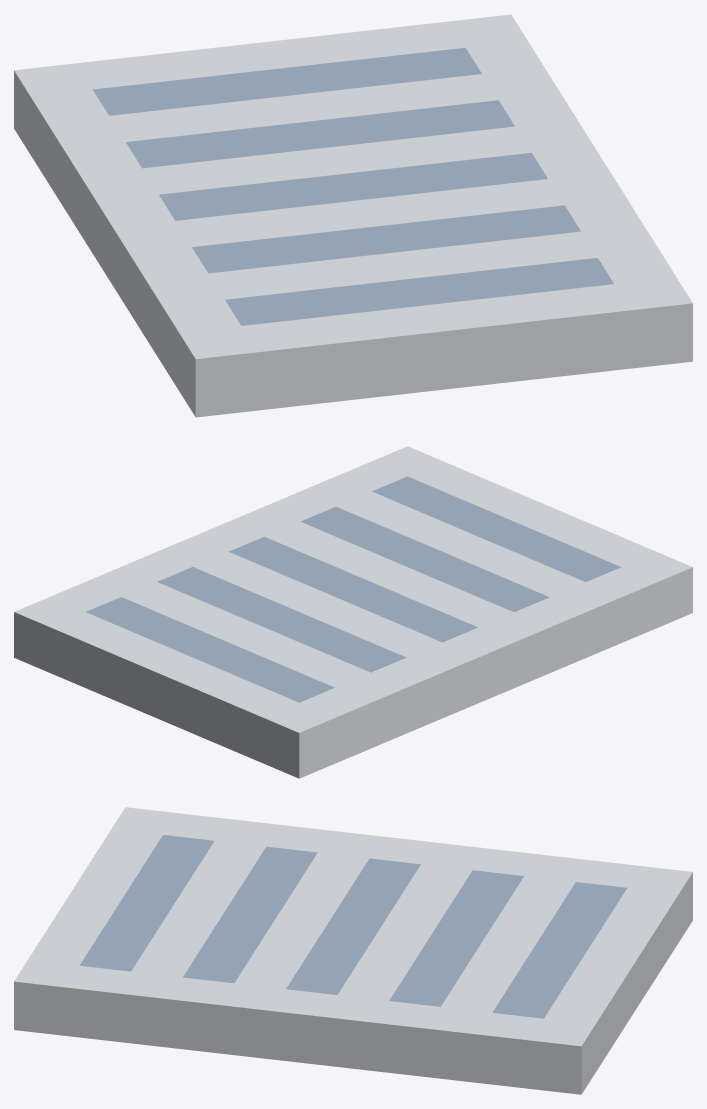
File: papers_0_lev1_lev3.glb
The picture shows the model from 3 angles, top to bottom: view 1: azimuth 30°, elevation 25°; view 2: azimuth 150°, elevation 25°; view 3: azimuth 270°, elevation 25°; orthographic projection. The views are drawn at different scales.
Visible parts, largest first — view 1: papers_0_lev1_lev3; view 2: papers_0_lev1_lev3; view 3: papers_0_lev1_lev3.
Boxes of the visible parts, bbox=[...] form: papers_0_lev1_lev3: bbox=[14, 14, 692, 417]; papers_0_lev1_lev3: bbox=[14, 446, 692, 778]; papers_0_lev1_lev3: bbox=[14, 807, 692, 1094].
Bounding box in the file's own units: 0.476 × 0.0449 × 0.5711.
Materials: 1 (1 with a texture image).
